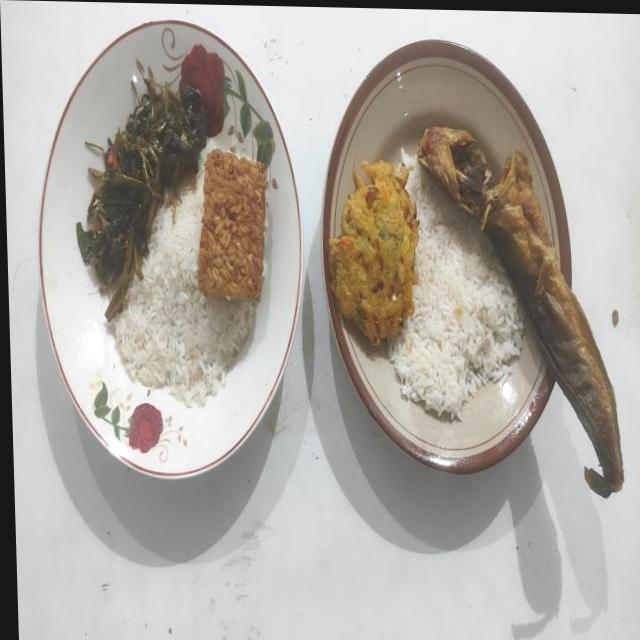nasi_putih: (388, 149, 524, 420), (110, 169, 256, 408)
tempe_goreng: (198, 149, 266, 303)
tumis_kangkung: (77, 77, 206, 320)
